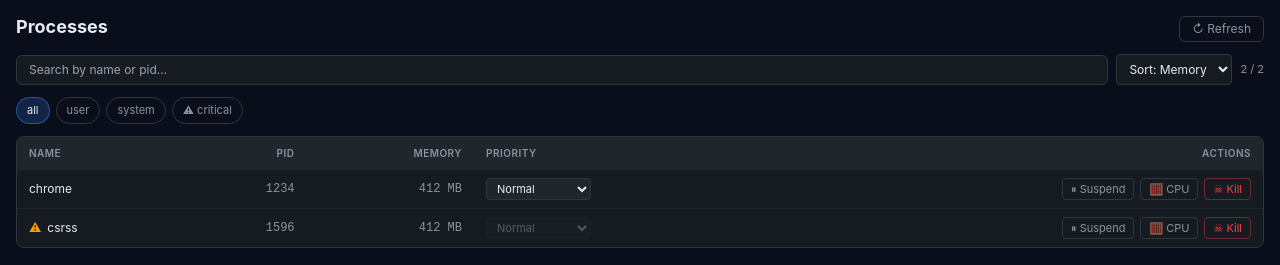
Test: Processes page › critical chip filters to only system-critical processes
What coordinates should you click on to do the following:
click the button "⚠ critical"
I would click on:
 (207, 110)
Its box is [172, 97, 243, 124].
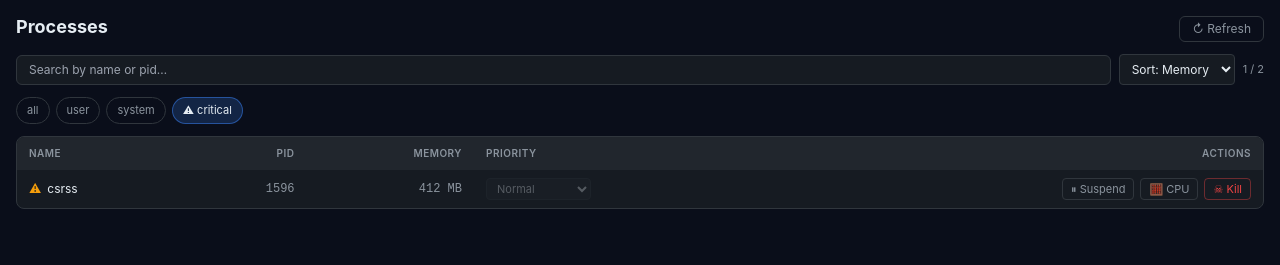
Expected: the text "csrss" is shown, [47, 180, 78, 196]
Expected: the text "chrome" is gone
